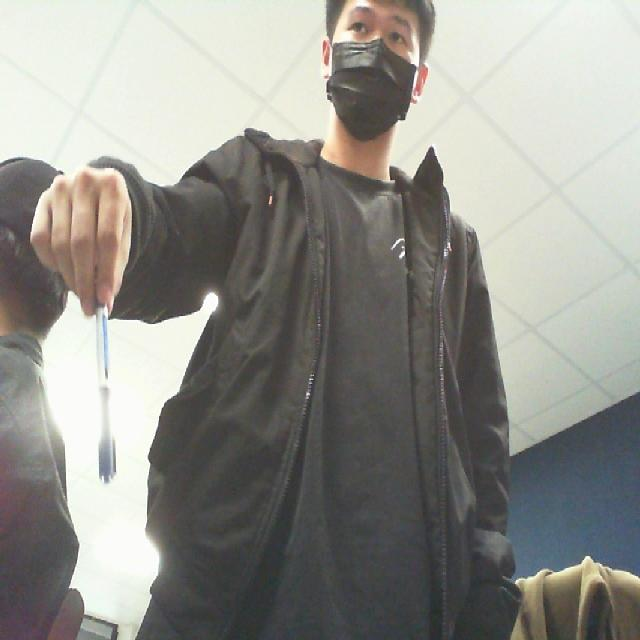Pen: (78, 227, 134, 517)
